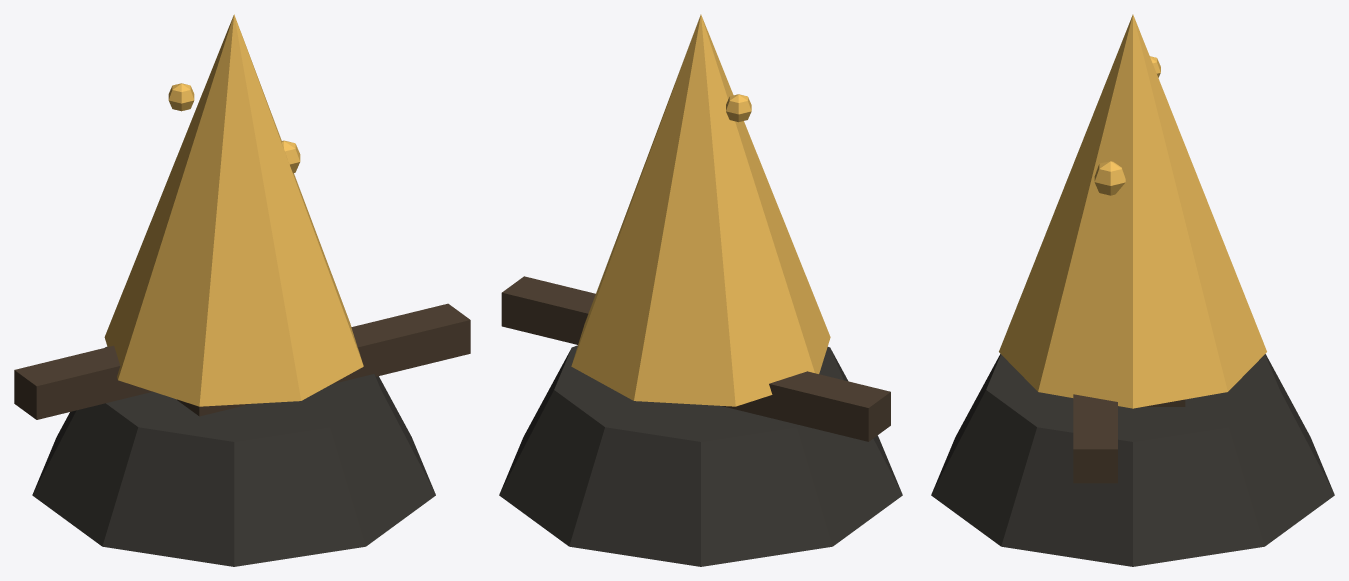
File: neon-corridor__bonfire.obj
3 views of the same model, side by side, from view 1: azimuth 30°, elevation 25°; view 2: azimuth 150°, elevation 25°; view 3: azimuth 270°, elevation 25° (orthographic).
Visible parts, largest first — view 1: bonfire_stack, bonfire_flame, bonfire_logs, bonfire_spark_b; view 2: bonfire_flame, bonfire_stack, bonfire_logs, bonfire_spark_b; view 3: bonfire_flame, bonfire_stack, bonfire_logs, bonfire_spark_a.
Boxes of the visible parts, box(x1,y1,x2,y2) form: bonfire_stack: box(32, 346, 435, 566); bonfire_flame: box(104, 14, 363, 406); bonfire_logs: box(14, 303, 470, 419); bonfire_spark_b: box(168, 83, 194, 111); bonfire_flame: box(571, 14, 830, 406); bonfire_stack: box(499, 345, 902, 566); bonfire_logs: box(501, 276, 890, 441); bonfire_spark_b: box(726, 94, 751, 122); bonfire_flame: box(999, 14, 1266, 408); bonfire_stack: box(931, 354, 1334, 566); bonfire_logs: box(1073, 394, 1185, 483); bonfire_spark_a: box(1094, 161, 1125, 195).
Size of the model in its own units: 1.24 by 1.38 by 1.08.
